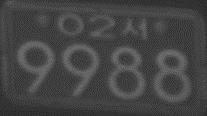0: (57, 10, 84, 37)
2: (89, 13, 117, 39)
8: (151, 47, 192, 103), (107, 44, 146, 101)
9: (16, 39, 56, 94), (61, 42, 100, 97)
서: (121, 16, 147, 41)
